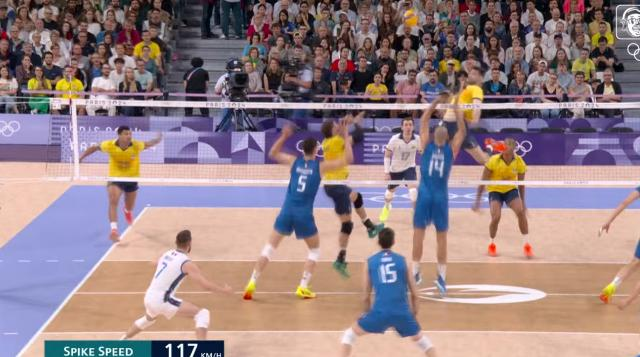Levantador: (324, 102, 368, 262)
Libero: (140, 230, 214, 344), (383, 116, 417, 214)
bola: (402, 8, 418, 28)
